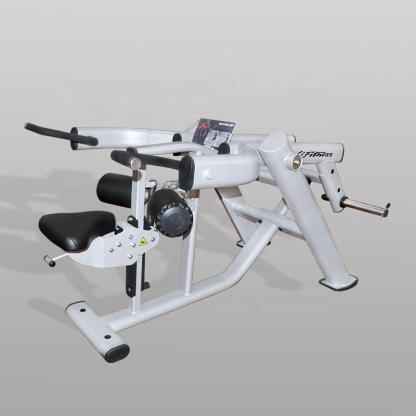seated dip machine: (26, 119, 392, 363)
